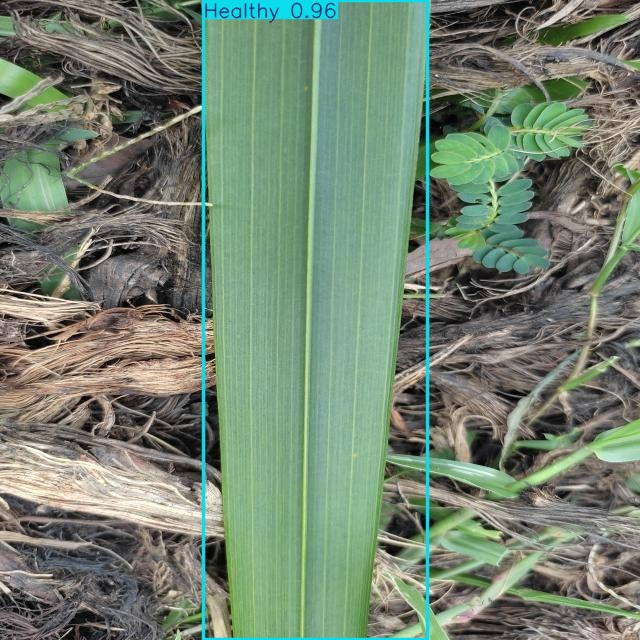Healthy: (204, 0, 427, 640)
